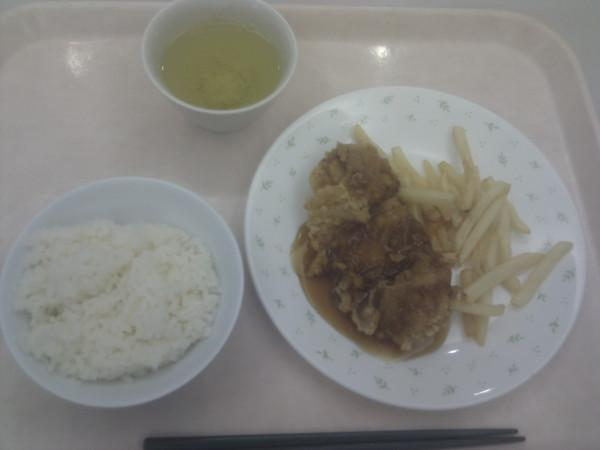rice: (14, 223, 219, 380)
